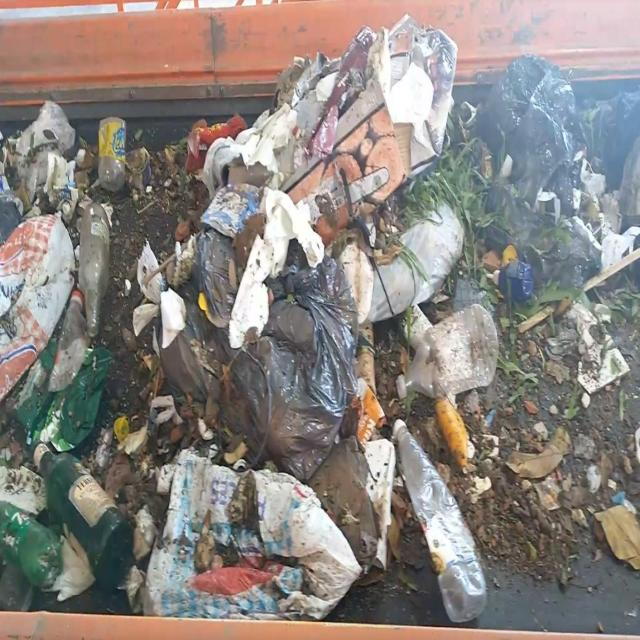bottle: (387, 416, 489, 626), (26, 426, 141, 594), (392, 304, 500, 397), (1, 496, 66, 597), (44, 283, 91, 399), (76, 200, 113, 336), (97, 113, 128, 195)
